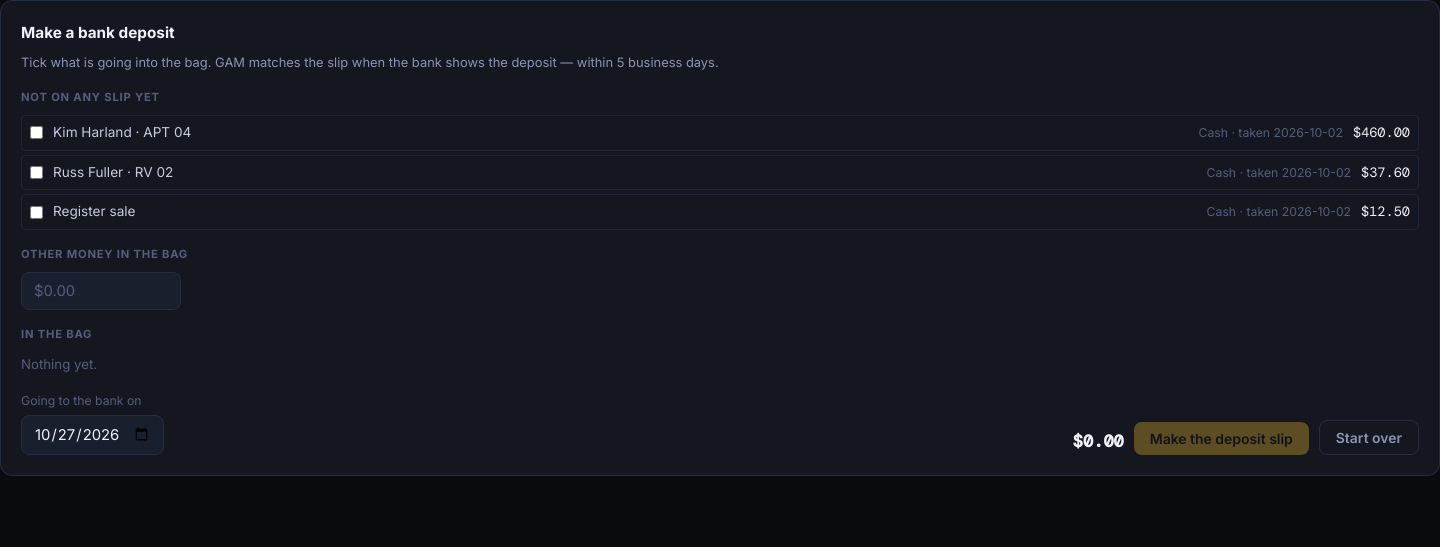
Make a bank deposit › a slip that failed with nothing made keeps the form and says the reason once
Click the checkbox labelled "Kim Harland · APT 04 Cash · taken 2026-10-02 $460.00" at (36, 133), box x1=30 y1=126 x2=43 y2=139
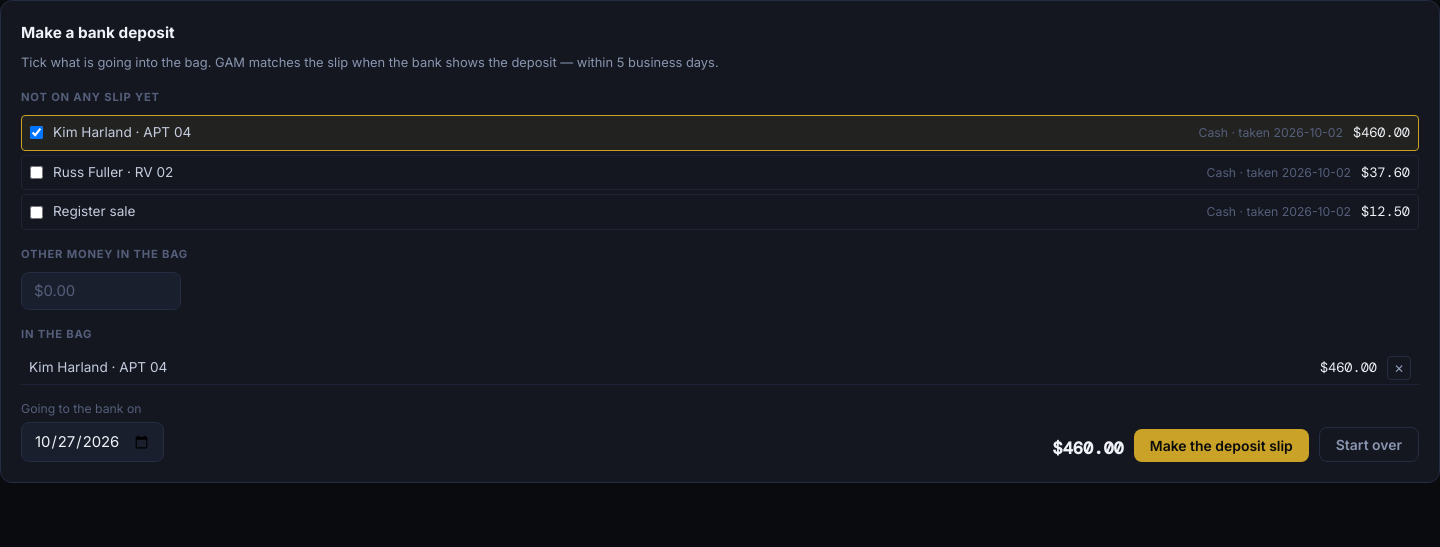
Click the button "Make the deposit slip" at (1221, 446), box x1=1134 y1=430 x2=1309 y2=462
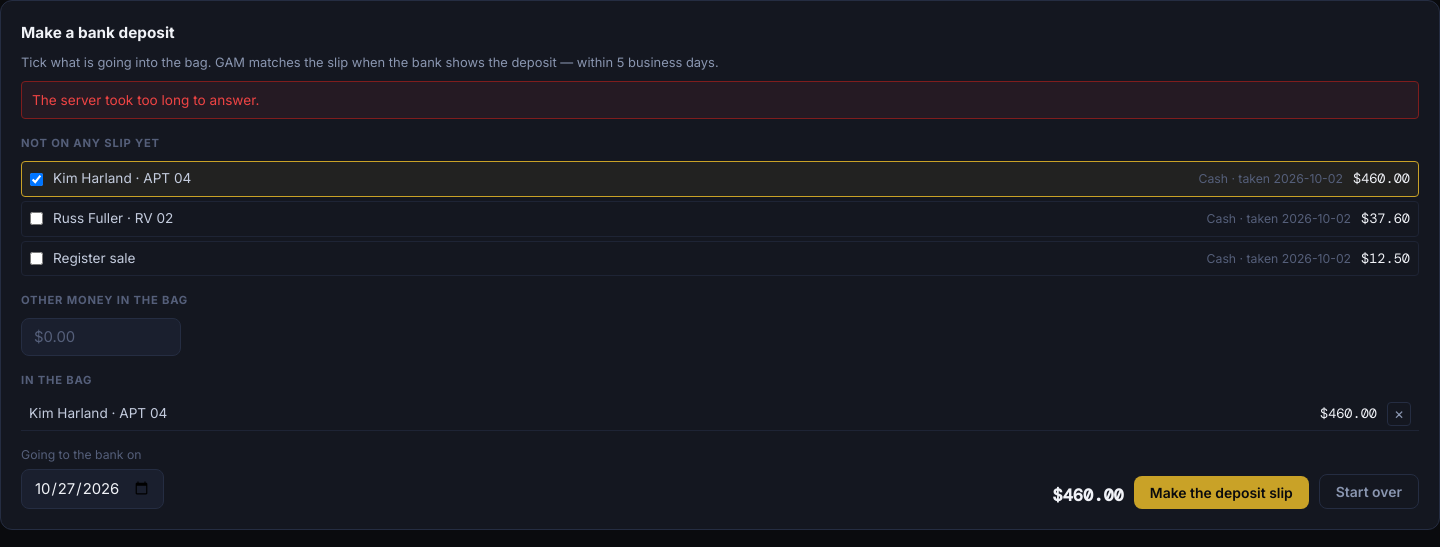
Expected: the text "$460.00" is shown, x1=1353 y1=168 x2=1410 y2=190
Now the number of messages is 1, box x1=21 y1=81 x2=1419 y2=119
